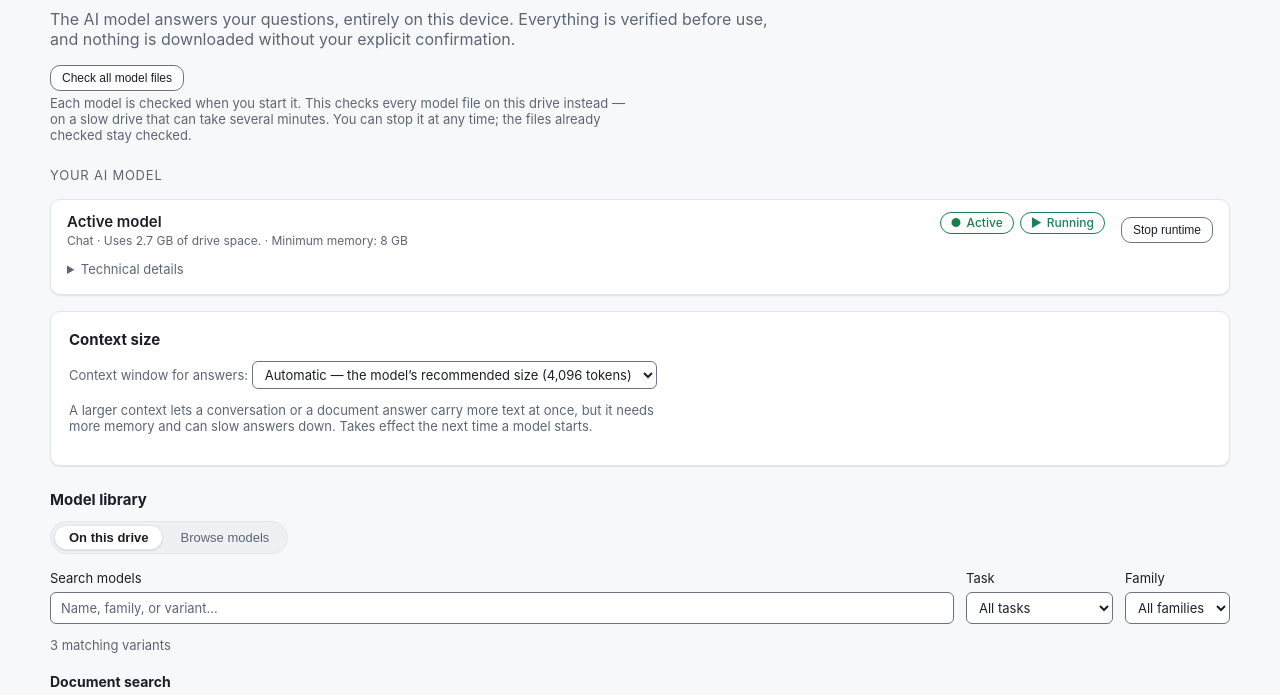
Test: ModelsScreen — search, tasks and model variants › #313 family options follow the view and task › resets only the family, keeping the search text and task intact
This screenshot has width=1280, height=695.
expect the text "Active model" is shown: met, box x1=67 y1=212 x2=162 y2=231
Select "Document search" in the dropdown labelled "Task" at (1040, 608), box x1=966 y1=592 x2=1113 y2=624
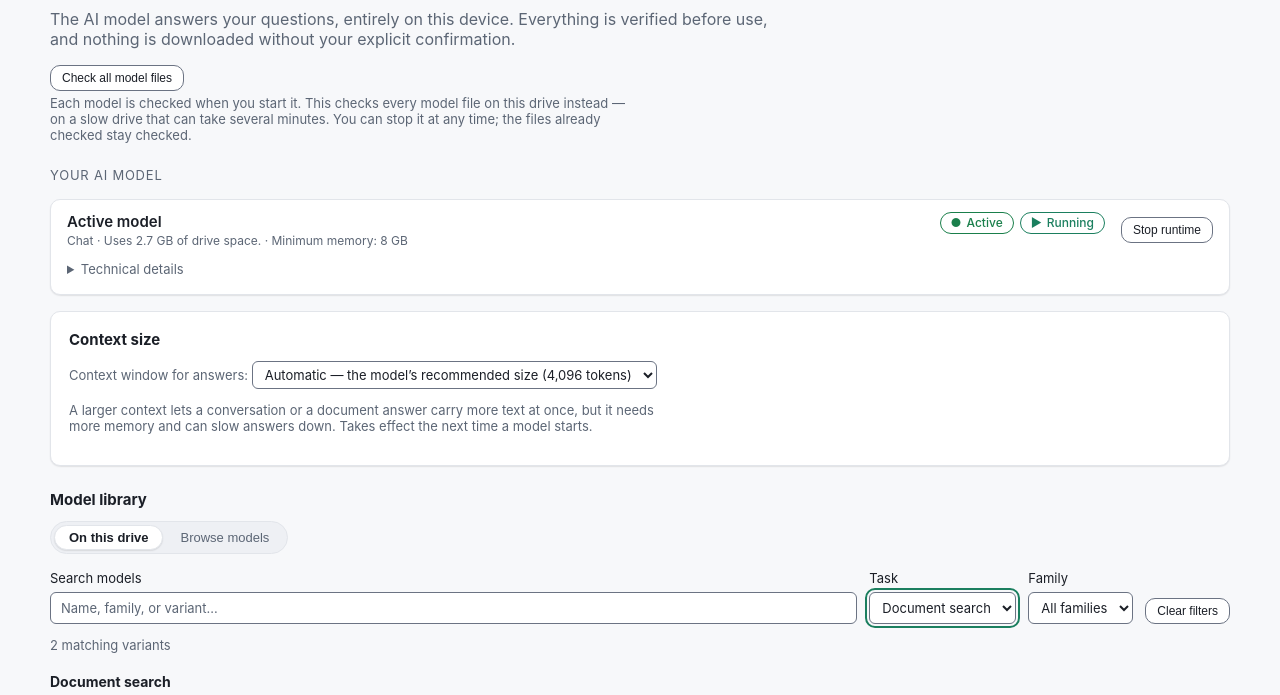
Type "reranker" into the search field at (454, 608), box x1=50 y1=592 x2=857 y2=624
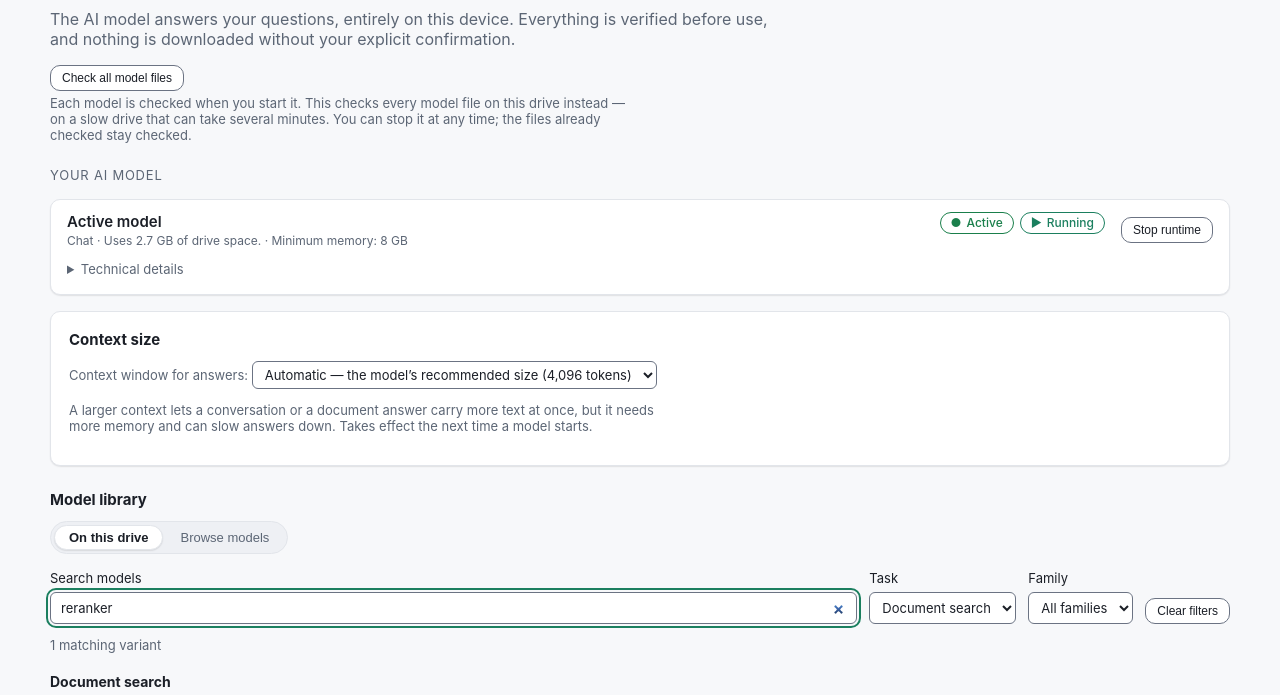
Select "e5" in the dropdown labelled "Family" at (1081, 608), box x1=1028 y1=592 x2=1133 y2=624
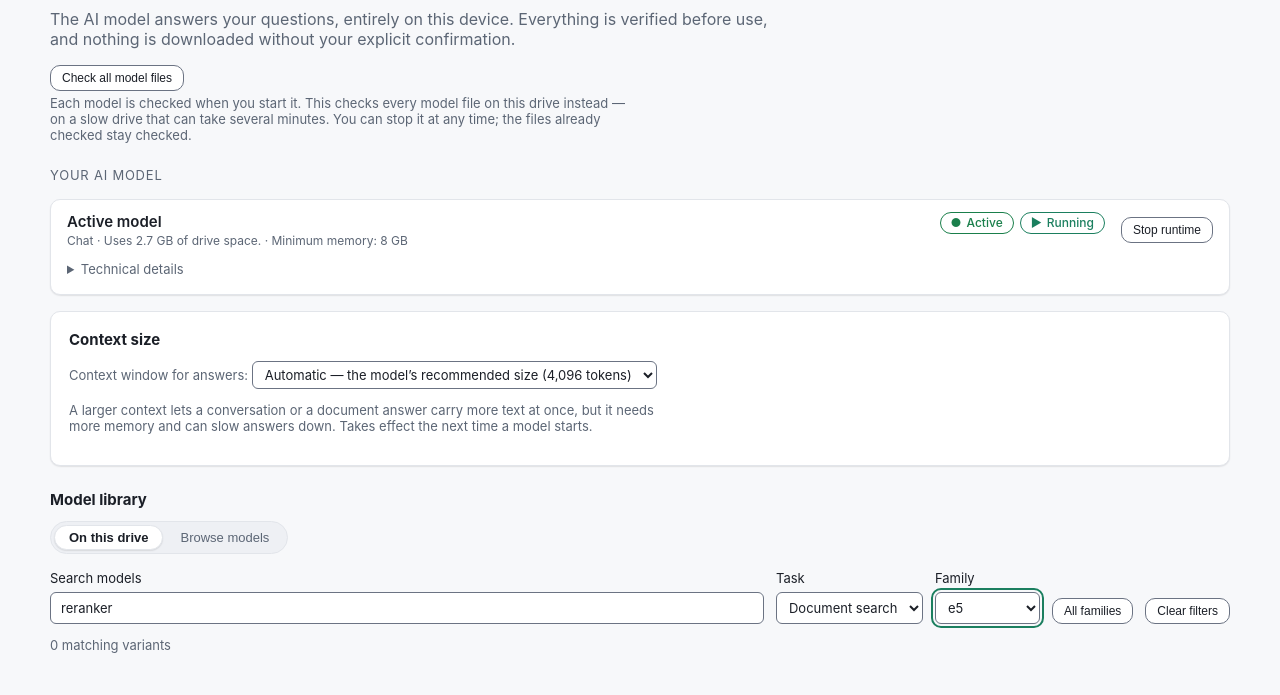
Click the button "All families" at (1093, 611), box x1=1052 y1=598 x2=1133 y2=624
(page scrolled)
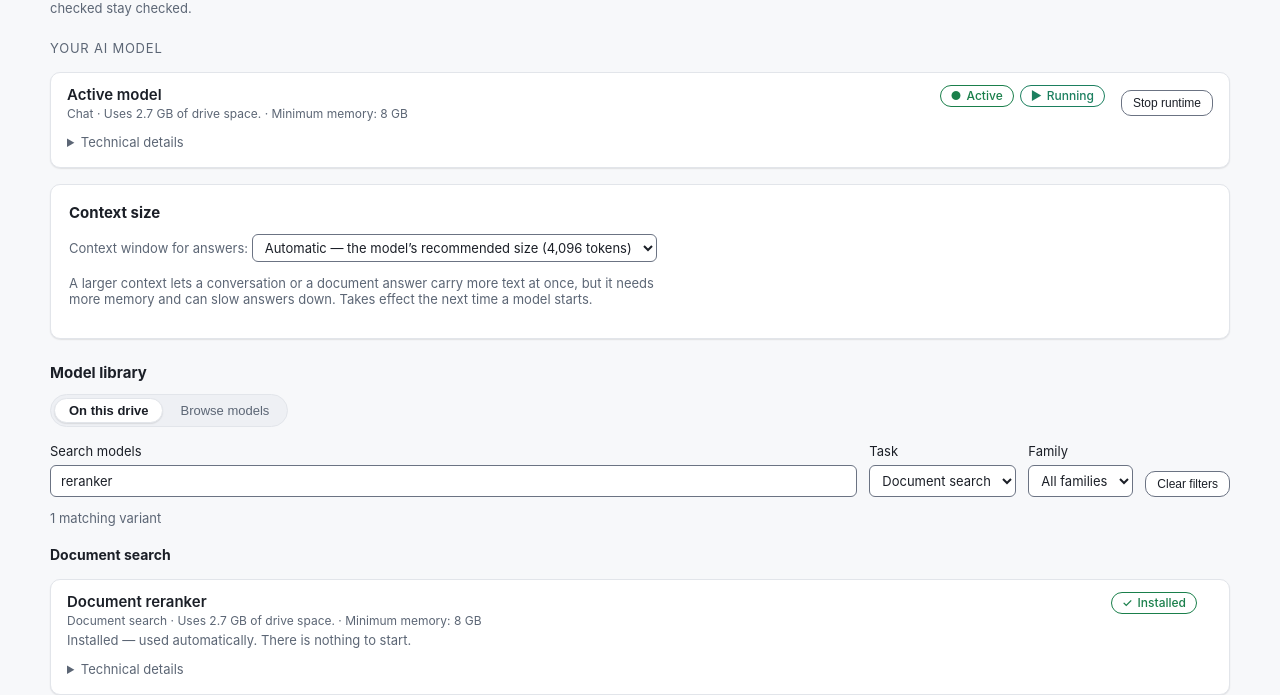
expect the text "Document reranker" is shown: met, box x1=67 y1=592 x2=207 y2=611
